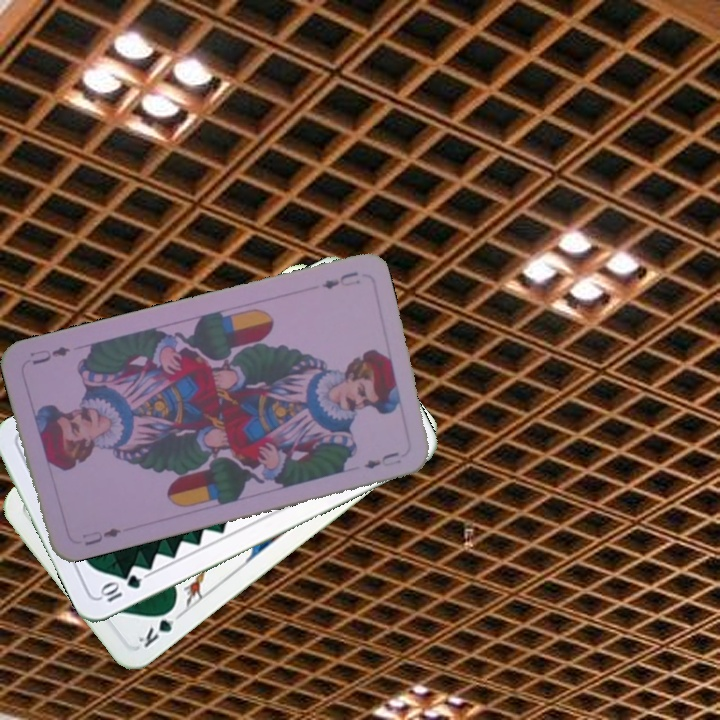EU: (78, 524, 124, 549), (318, 267, 363, 292)
G10: (96, 570, 144, 605)
GK: (134, 602, 185, 651)
